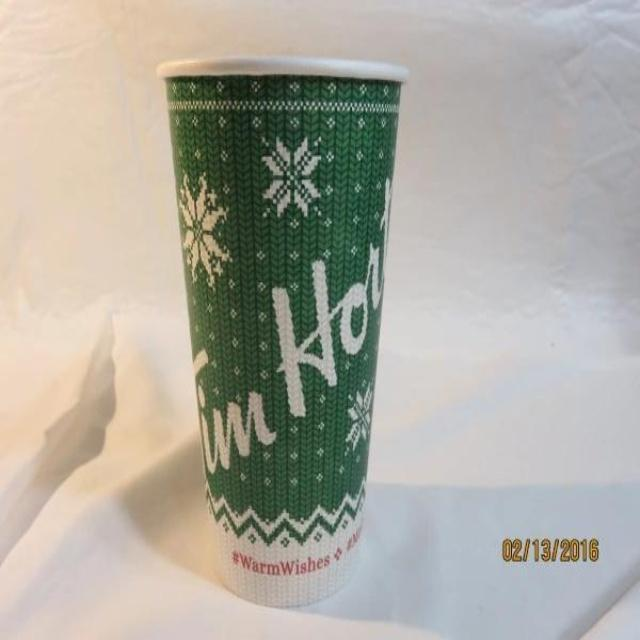timmies: (150, 48, 414, 612)
